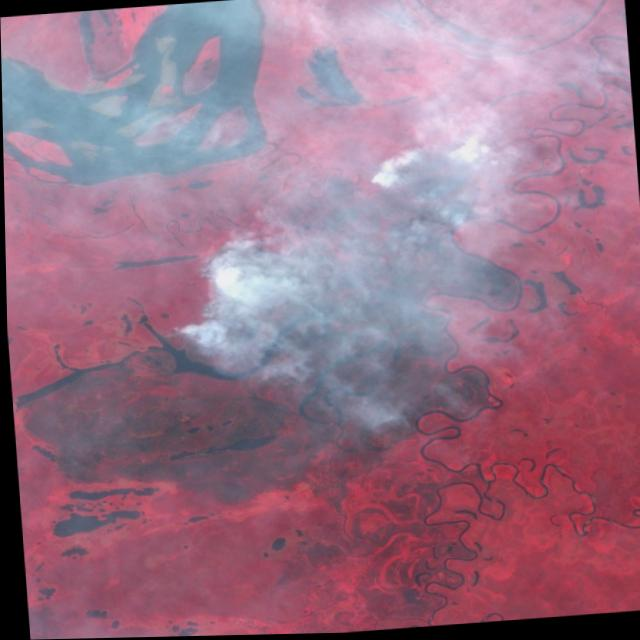fire: (157, 232, 287, 357), (347, 132, 513, 201)
